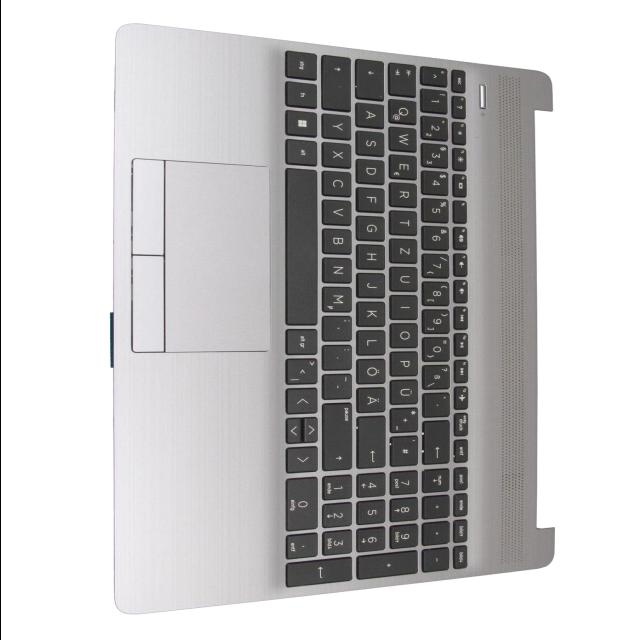0: (424, 335, 452, 361)
1: (422, 88, 450, 113)
2: (422, 114, 450, 140)
3: (422, 142, 451, 167)
4: (423, 170, 451, 195)
5: (423, 196, 451, 222)
6: (423, 224, 452, 250)
7: (424, 252, 452, 277)
8: (423, 279, 452, 305)
9: (423, 307, 452, 333)
a: (357, 101, 387, 127)
accent: (425, 391, 453, 416)
ae: (358, 386, 388, 412)
alt-left: (286, 138, 320, 164)
altgr-right: (287, 327, 321, 354)
b: (324, 226, 355, 254)
c: (323, 169, 354, 196)
caret: (422, 65, 450, 85)
comma: (324, 314, 355, 340)
d: (357, 158, 387, 184)
del: (425, 419, 453, 463)
e: (390, 153, 420, 179)
enter: (358, 415, 388, 467)
f: (359, 186, 387, 211)
g: (357, 214, 387, 240)
h: (358, 243, 388, 269)
hash: (391, 434, 421, 466)
i: (392, 293, 421, 319)
j: (358, 272, 388, 297)
k: (358, 300, 388, 326)
keyboard: (275, 44, 481, 594)
l: (358, 328, 388, 354)
less: (285, 356, 319, 384)
m: (324, 284, 355, 312)
minus: (324, 372, 354, 398)
n: (324, 256, 355, 283)
o: (391, 321, 421, 347)
oe: (358, 357, 388, 383)
p: (391, 350, 421, 376)
plus: (391, 406, 421, 432)
point: (324, 343, 354, 369)
q: (389, 98, 419, 124)
r: (390, 181, 420, 207)
s: (357, 129, 387, 155)
shift-left: (322, 54, 354, 110)
shift-lock: (357, 58, 387, 99)
shift-right: (324, 401, 355, 469)
space: (287, 166, 320, 325)
ss: (424, 363, 452, 388)
strg-left: (287, 49, 320, 79)
t: (391, 209, 421, 234)
tab: (390, 62, 419, 96)
u: (390, 265, 420, 291)
ue: (391, 378, 421, 404)
v: (324, 198, 355, 225)
w: (390, 125, 420, 151)
x: (324, 141, 354, 167)
y: (324, 113, 354, 139)
z: (391, 237, 421, 263)
